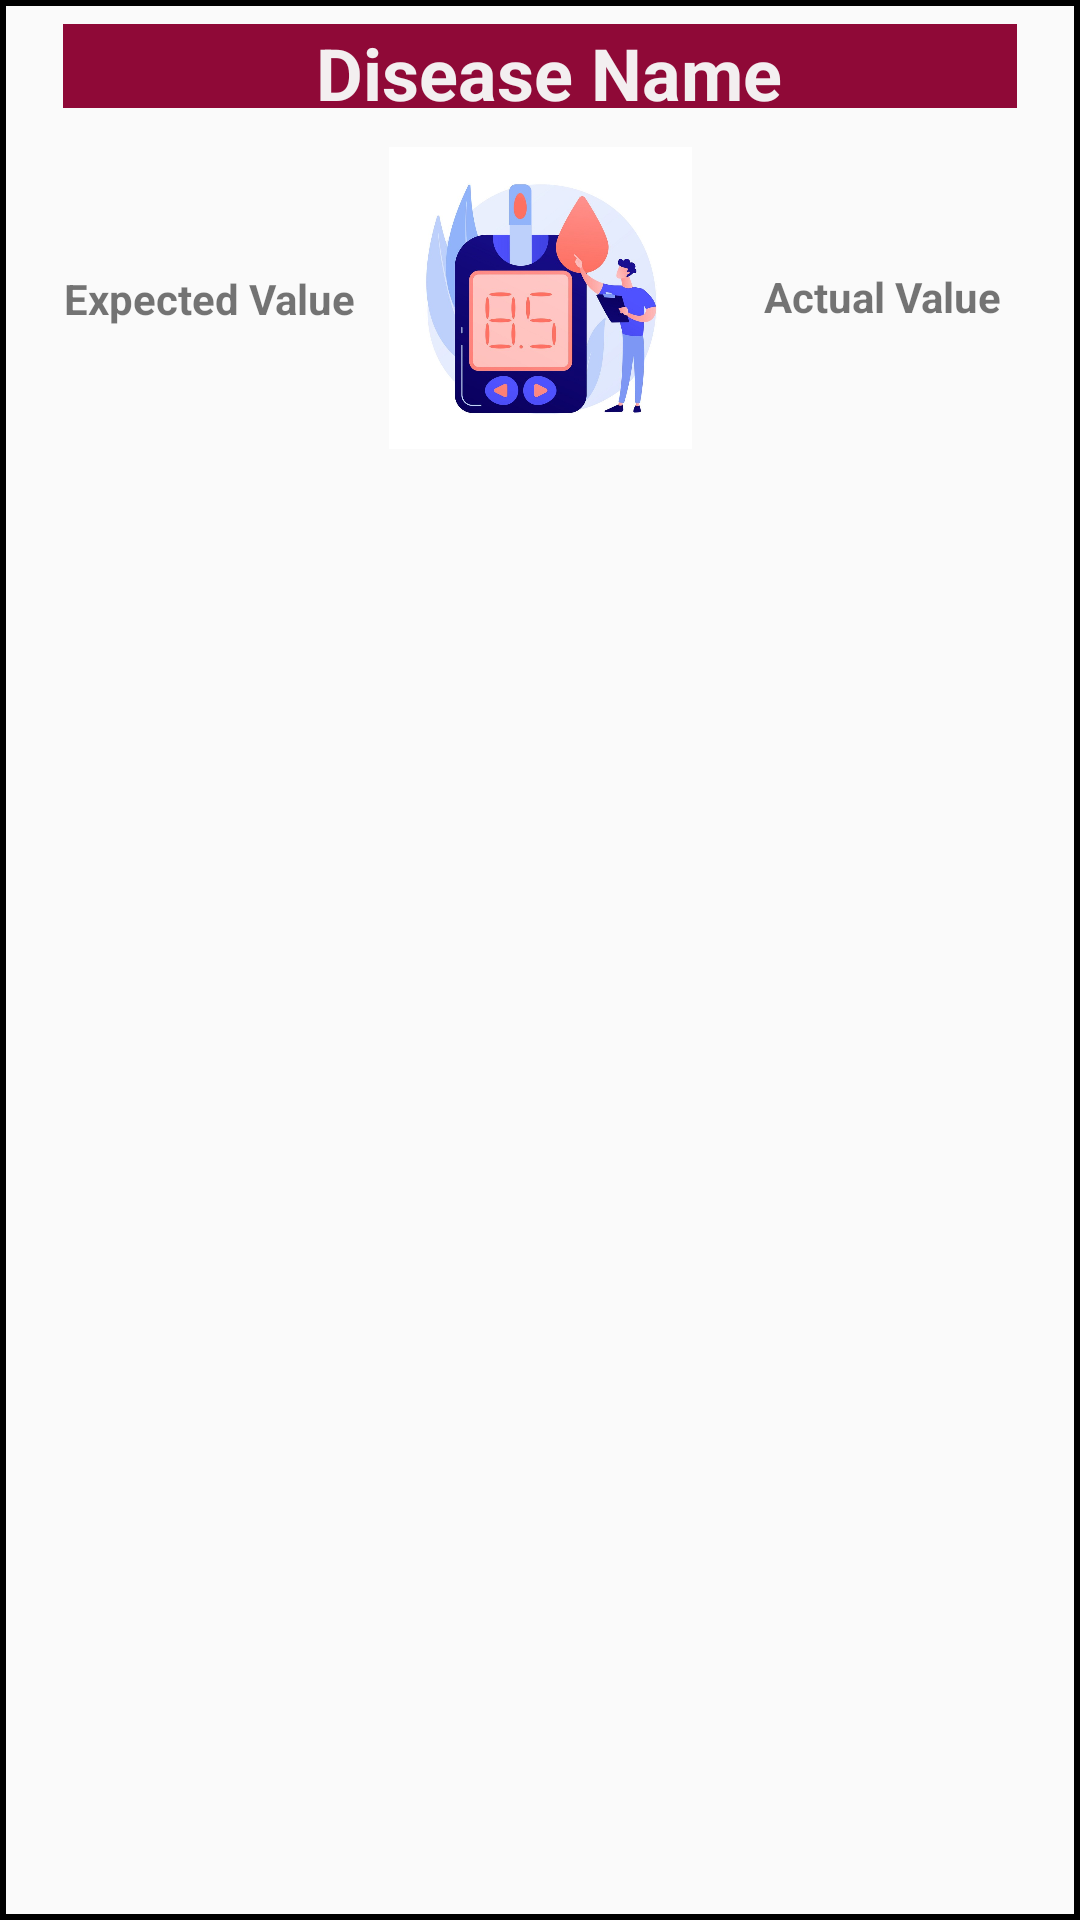

Named icons in this screenshot (1080*1920) and their centers, [x,y]:
diabetes: [541,299]
